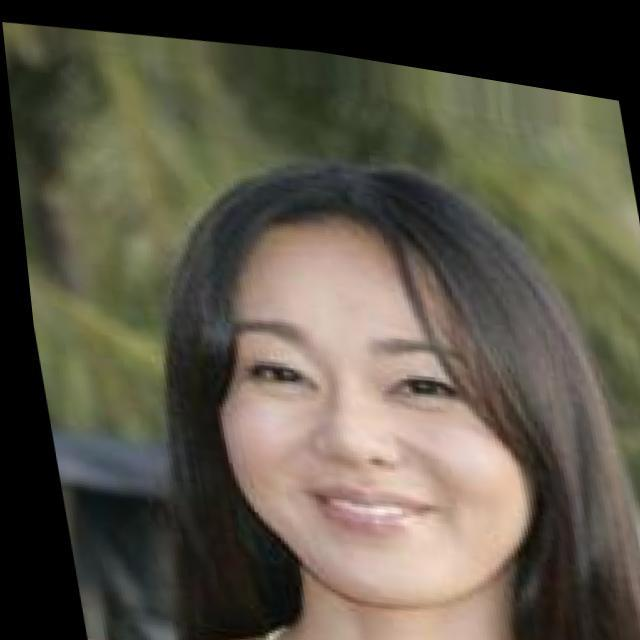Nonhelmet: (157, 157, 636, 636)
